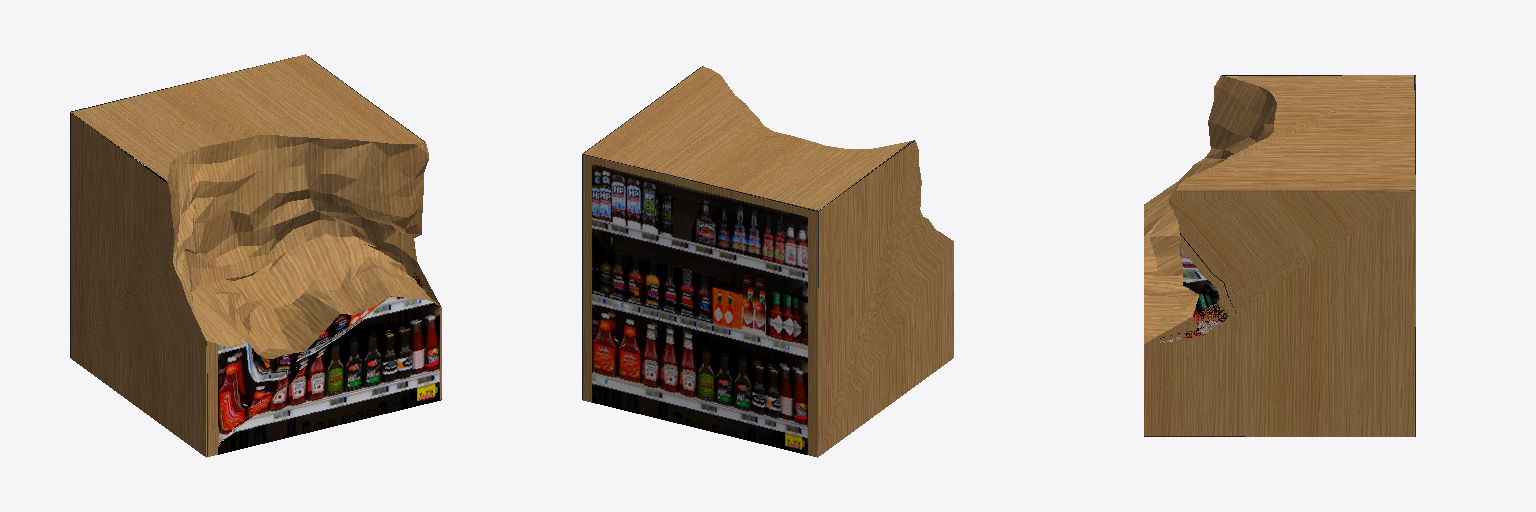
3 views of the same model, side by side, from view 1: azimuth 30°, elevation 25°; view 2: azimuth 150°, elevation 25°; view 3: azimuth 270°, elevation 25° (orthographic).
Visible parts, largest first — view 1: Cube; view 2: Cube; view 3: Cube.
Part boxes in pixels (bbox=[...]): Cube: bbox=[70, 54, 441, 457]; Cube: bbox=[582, 66, 953, 457]; Cube: bbox=[1144, 75, 1415, 436].
Bounding box in the file's own units: 3 × 3 × 3.
Materials: 1 (1 with a texture image).